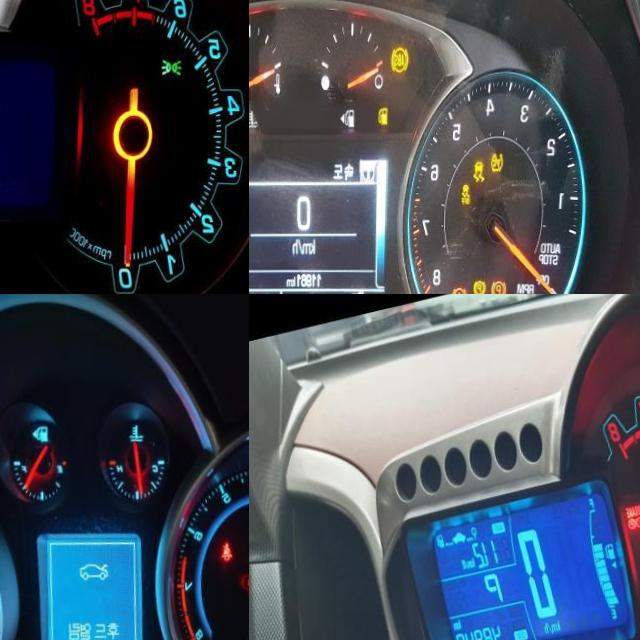Low fuel level: (380, 106, 391, 126)
SideLamp: (163, 59, 185, 76)
